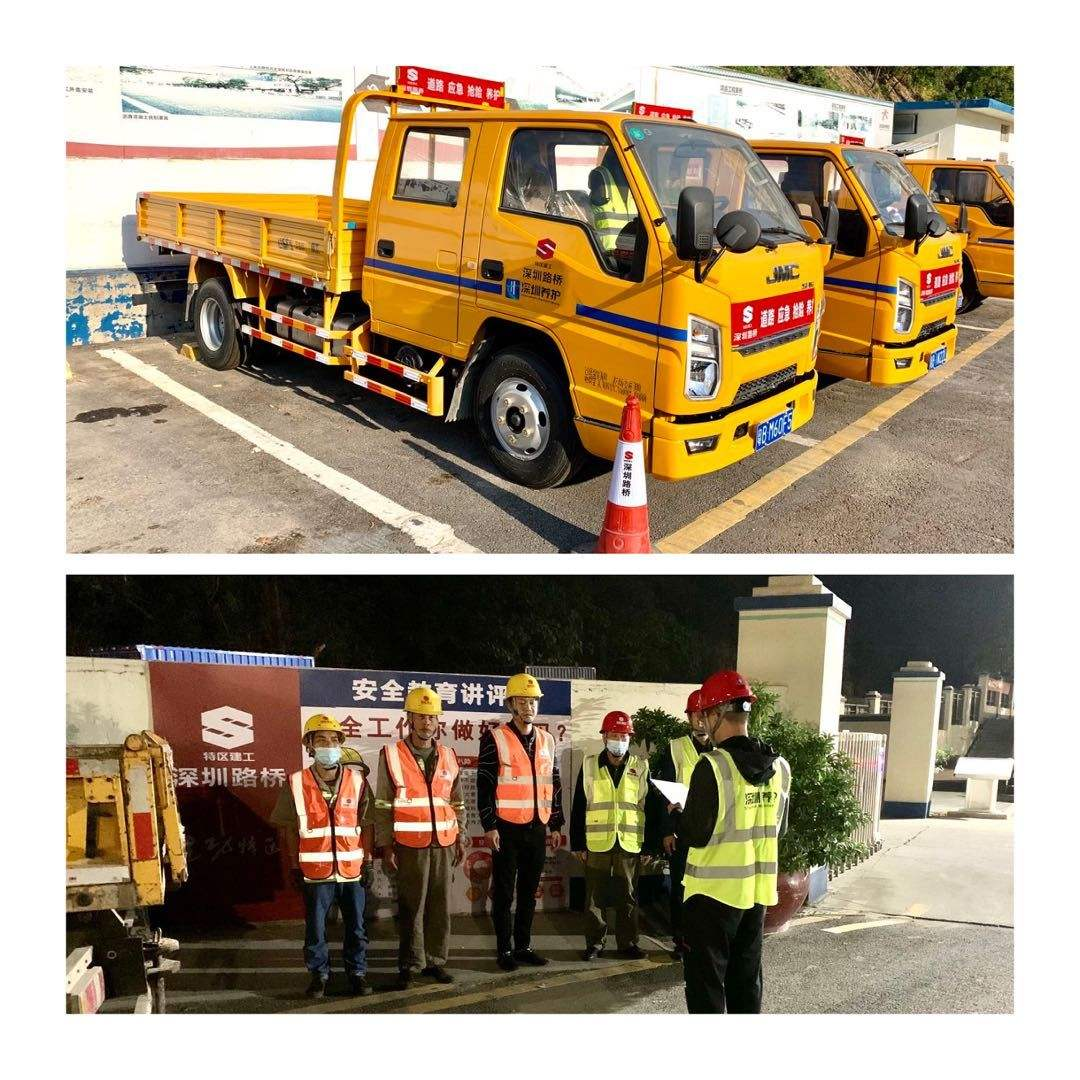person: (667, 669, 794, 1014), (374, 683, 470, 990), (281, 710, 378, 1000), (474, 670, 566, 972), (566, 708, 661, 964)
reflective_vest: (681, 744, 791, 912), (284, 767, 369, 884), (381, 733, 464, 851), (487, 720, 559, 825), (581, 749, 651, 854)
safety_helmet: (697, 670, 759, 742), (401, 683, 448, 746), (299, 711, 348, 770), (503, 670, 547, 728), (599, 707, 637, 758)
